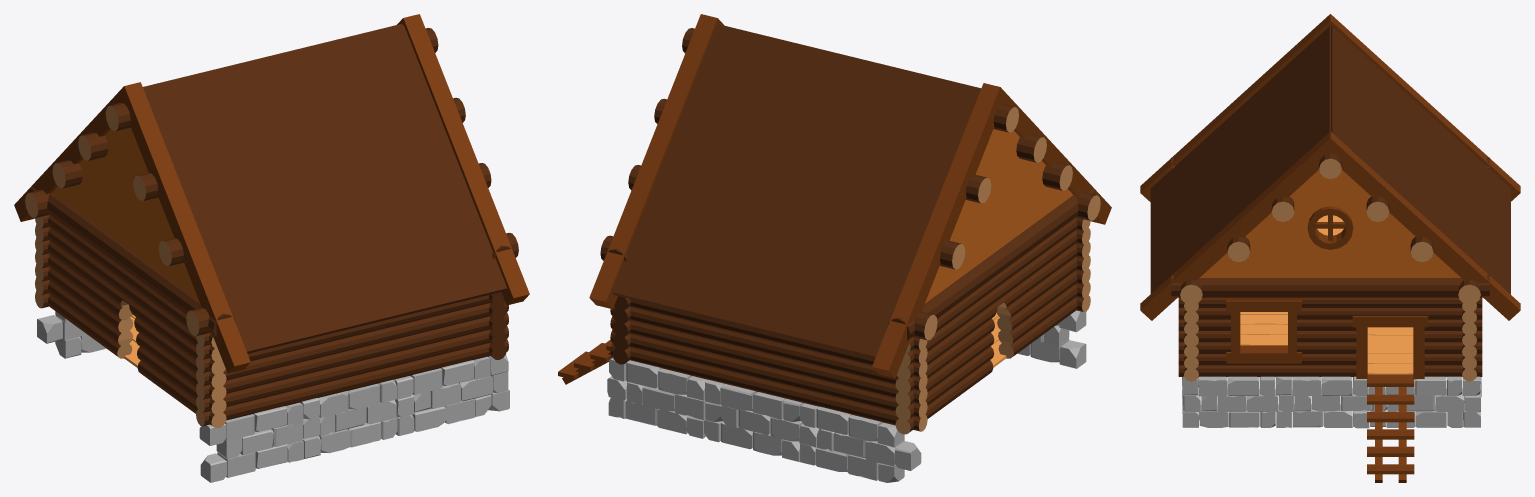
The model's file is test_house.glb.
3 views of the same model, side by side, from view 1: azimuth 30°, elevation 25°; view 2: azimuth 150°, elevation 25°; view 3: azimuth 270°, elevation 25° (orthographic). The views are drawn at different scales.
Parts seen in each view (by area): view 1: Cube.158, Cube.157, wood_log.071, wood_log.047, Cube.160, Cube.162, wood_log.078, wood_log.064; view 2: Cube.158, Cube.157, wood_log.078, wood_log.047, Cube.160, Cube.162, wood_log.071, wood_log.064, Cube.156; view 3: Cube.158, wood_log.064, Cube.157, Cube.161, Cube.162, Cube.156, Cube.174, Cube.167, Cube.171, Cylinder.002, wood_log.071, wood_log.078.
Boxes of the visible parts, left/top/right/bottom form: Cube.158: left=14, top=14, right=529, bottom=373; Cube.157: left=37, top=311, right=509, bottom=482; wood_log.071: left=196, top=295, right=508, bottom=426; wood_log.047: left=36, top=215, right=226, bottom=428; Cube.160: left=52, top=127, right=198, bottom=299; Cube.162: left=25, top=186, right=518, bottom=336; wood_log.078: left=35, top=215, right=49, bottom=308; wood_log.064: left=489, top=292, right=506, bottom=359; Cube.158: left=589, top=14, right=1111, bottom=378; Cube.157: left=607, top=310, right=1086, bottom=482; wood_log.078: left=610, top=299, right=927, bottom=431; wood_log.047: left=895, top=217, right=1077, bottom=434; Cube.160: left=925, top=129, right=1072, bottom=303; Cube.162: left=600, top=188, right=1100, bottom=340; wood_log.071: left=1076, top=217, right=1090, bottom=312; wood_log.064: left=612, top=296, right=630, bottom=364; Cube.156: left=558, top=339, right=612, bottom=384; Cube.158: left=1140, top=14, right=1520, bottom=320; wood_log.064: left=1178, top=297, right=1482, bottom=376; Cube.157: left=1182, top=376, right=1481, bottom=428; Cube.161: left=1200, top=170, right=1460, bottom=277; Cube.162: left=1171, top=157, right=1489, bottom=304; Cube.156: left=1367, top=374, right=1414, bottom=482; Cube.174: left=1240, top=312, right=1413, bottom=374; Cube.167: left=1226, top=300, right=1301, bottom=363; Cube.171: left=1352, top=316, right=1428, bottom=379; Cylinder.002: left=1307, top=206, right=1353, bottom=249; wood_log.071: left=1184, top=302, right=1198, bottom=381; wood_log.078: left=1462, top=302, right=1476, bottom=381.
Size of what is drawn, in the model's own units: 10.11 by 8.57 by 9.63.
